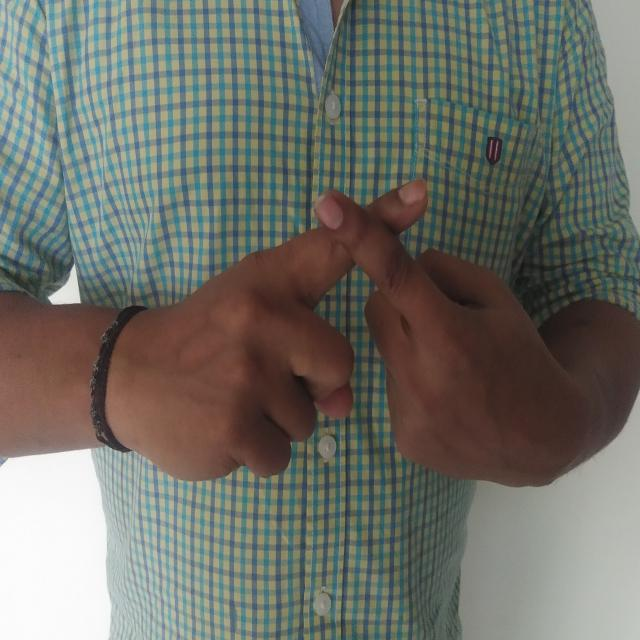X: (122, 162, 548, 503)
